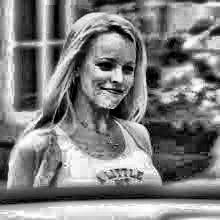happy: (44, 5, 176, 124)
